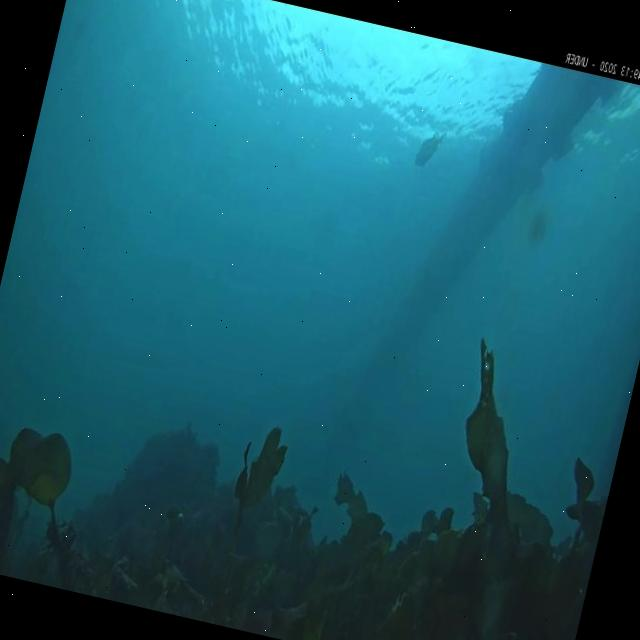fish: (409, 122, 446, 176)
